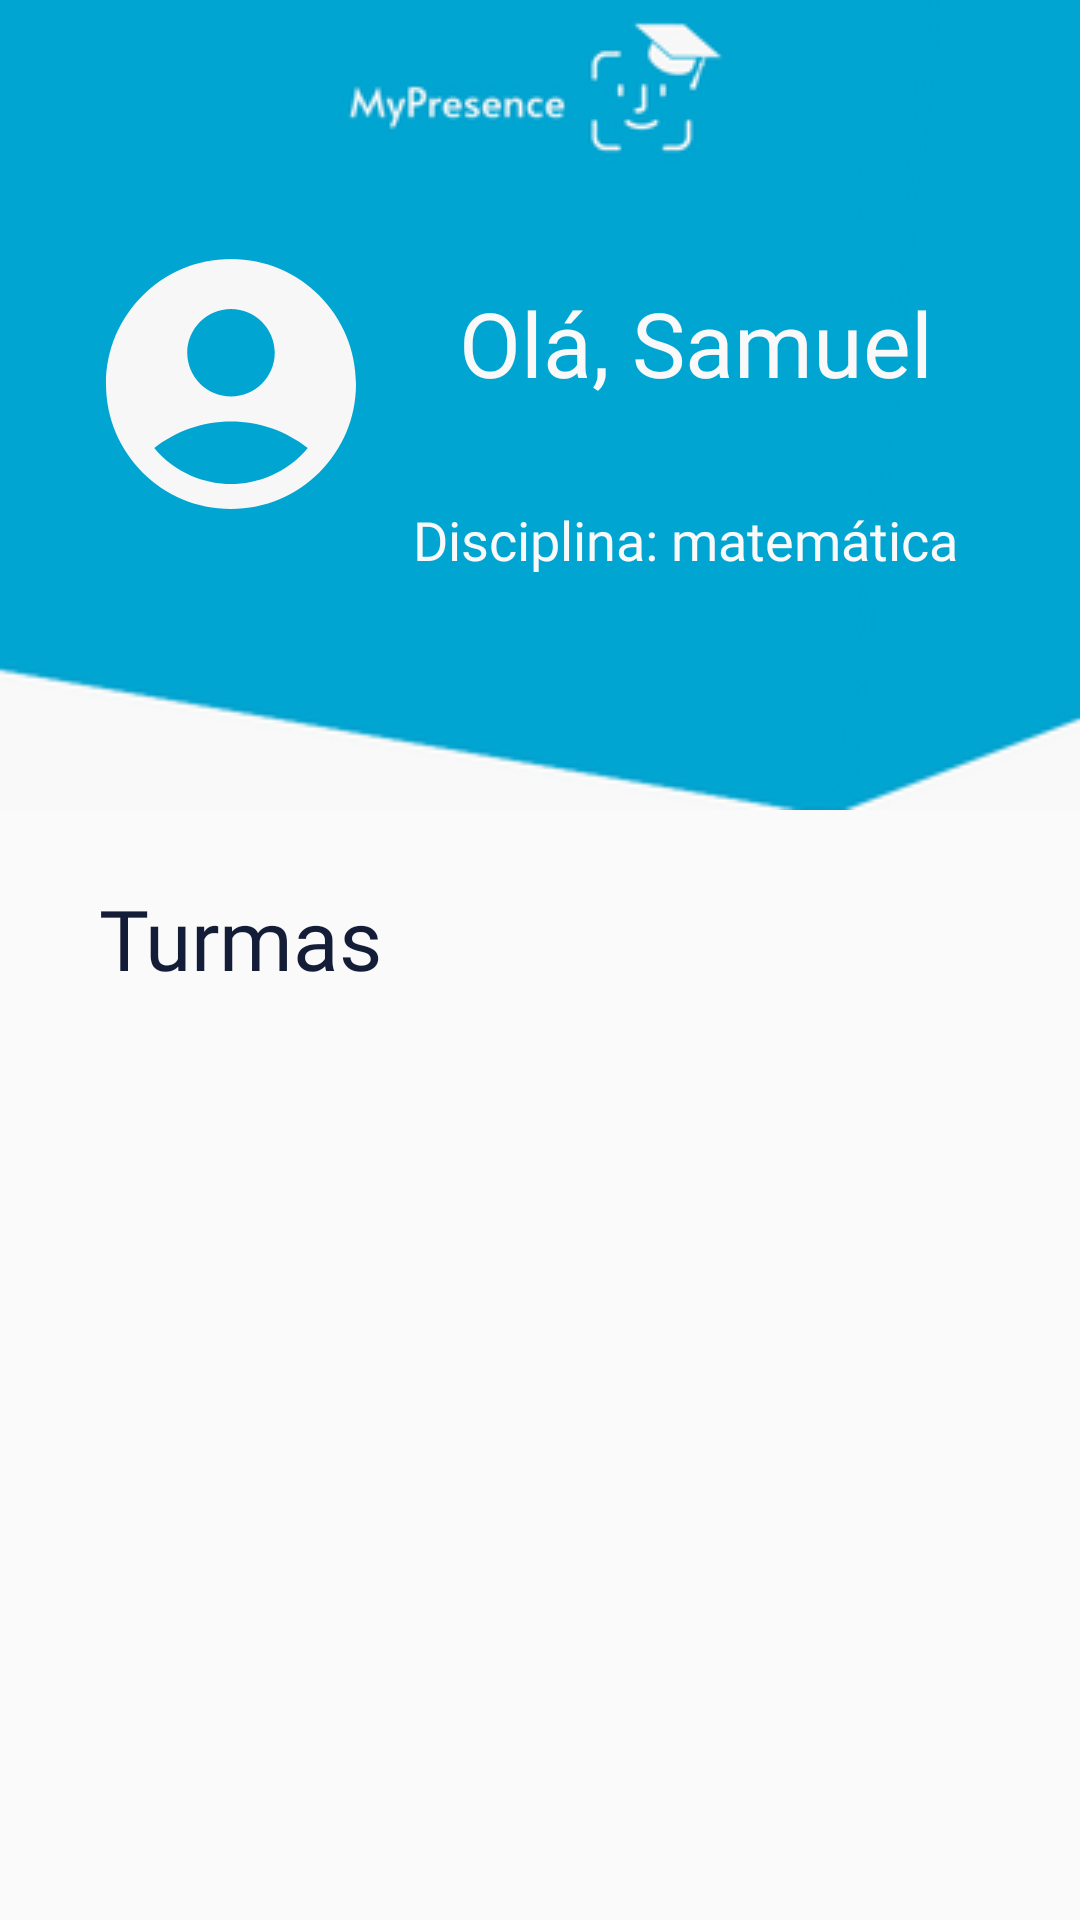

Named icons in this screenshot (1080*1920) and their bounding boxes, (left=x1, top=y1, right=x2, bottom=y2):
usuarioicon: (left=106, top=259, right=356, bottom=509)
